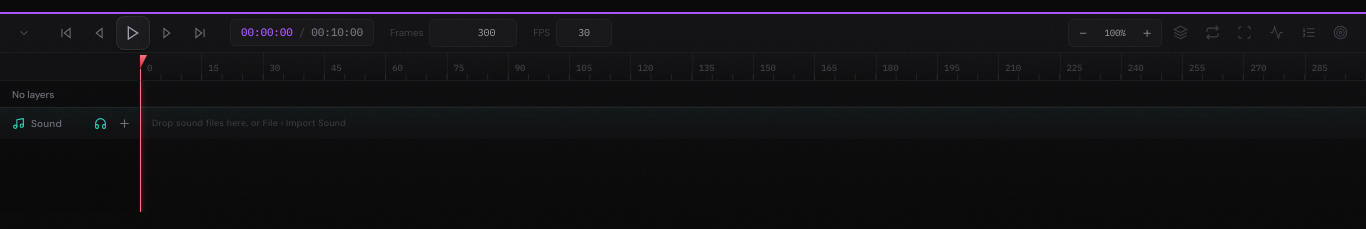
Test: Timeline › allows extending the timeline beyond 300 frames
Replace the text in the number field named "Timeline duration in frames" with "600" at (473, 32), box [429,18,517,46]
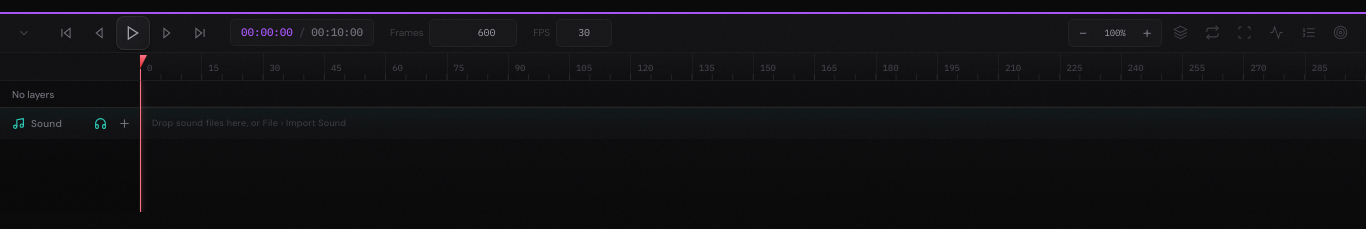
Leave the number field named "Timeline duration in frames", box [429,18,517,46]
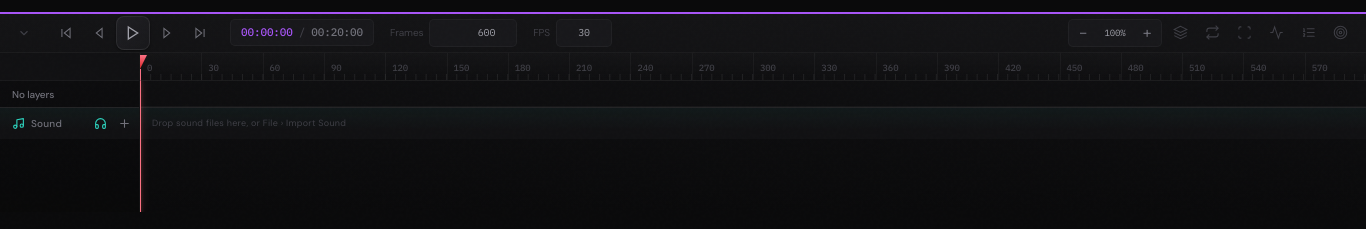
Check: the text "00:20:00" is shown, box [311,24,363,41]
